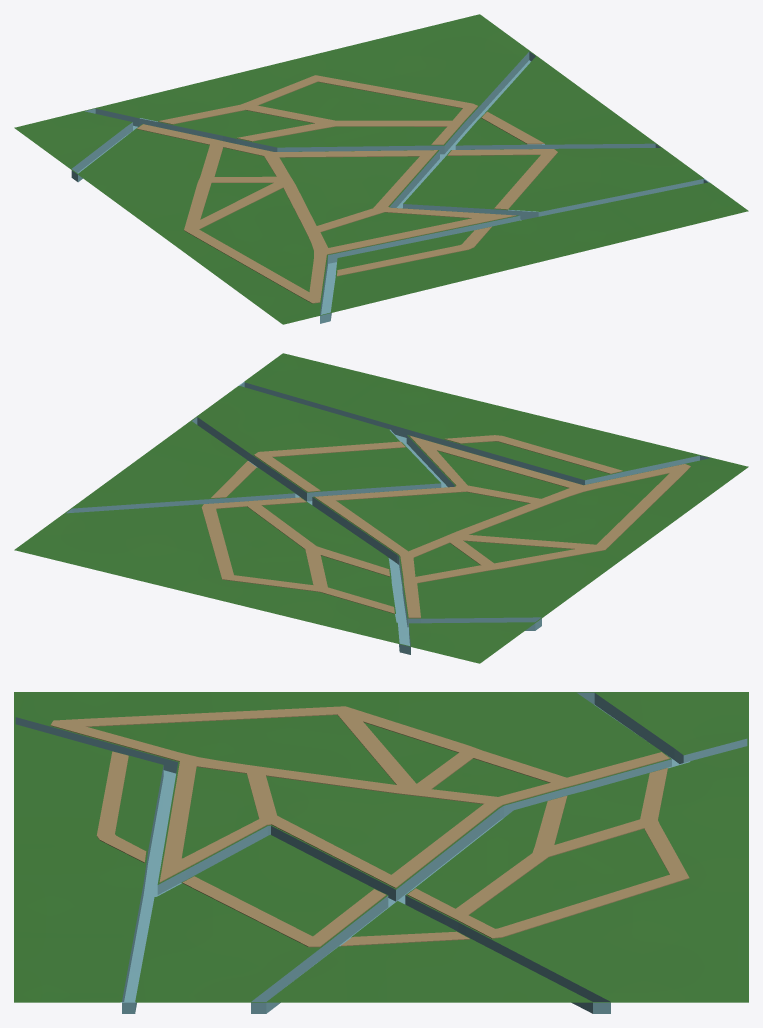
Rendered from LevelMap_Model.fbx.
3 views of the same model, one above another, from view 1: azimuth 30°, elevation 25°; view 2: azimuth 150°, elevation 25°; view 3: azimuth 270°, elevation 25° (orthographic). The views are drawn at different scales.
Parts seen in each view (by area): view 1: Road_Backup, Road_Backup.002; view 2: Road_Backup, Road_Backup.002; view 3: Road_Backup, Road_Backup.002.
Part boxes in pixels (x1=…): Road_Backup: x1=14, y1=14, x2=748, y2=324; Road_Backup.002: x1=137, y1=75, x2=557, y2=303; Road_Backup: x1=14, y1=353, x2=748, y2=663; Road_Backup.002: x1=201, y1=435, x2=690, y2=618; Road_Backup: x1=14, y1=692, x2=748, y2=1013; Road_Backup.002: x1=50, y1=706, x2=689, y2=947.
Size of the model in its own units: 49961 by 946 by 49976.
